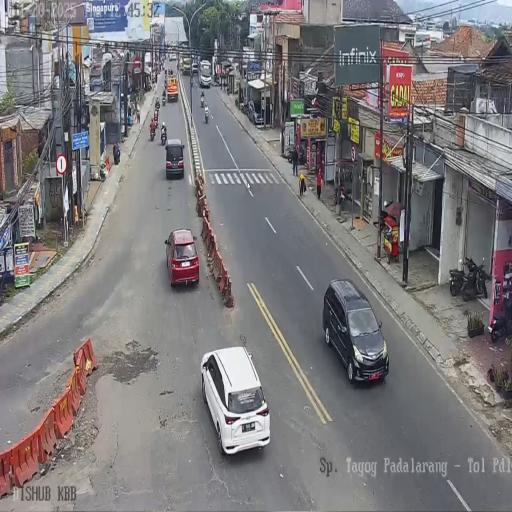car: (200, 344, 271, 456), (322, 279, 387, 384), (165, 227, 200, 287), (165, 139, 185, 179), (247, 100, 263, 125), (191, 61, 199, 74), (169, 52, 176, 60)
motorcycle: (461, 254, 482, 301), (488, 299, 510, 341), (286, 141, 305, 167), (160, 128, 167, 145), (150, 121, 156, 140), (240, 100, 248, 114), (204, 106, 210, 123), (154, 110, 159, 128), (155, 98, 160, 112), (200, 94, 205, 107), (162, 94, 166, 106), (180, 61, 184, 72), (152, 74, 155, 87), (164, 78, 167, 90), (164, 68, 167, 77)
truck: (199, 59, 212, 88), (166, 75, 179, 103), (182, 54, 192, 75)
